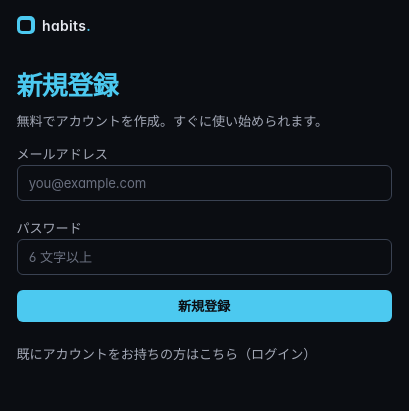
Test: Signup › submit 失敗でエラー文が表示される
This screenshot has width=409, height=411.
In the field labelled "メールアドレス": (204, 183) [16,165,392,201], type "dup@example.com"
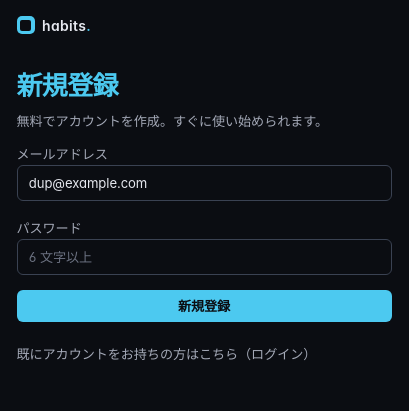
In the password field labelled "パスワード": (204, 257) [16,239,392,275], type "password123"
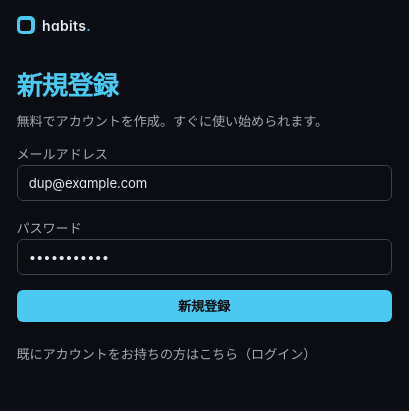
Click the button "新規登録": click(204, 306) [16,290,392,322]
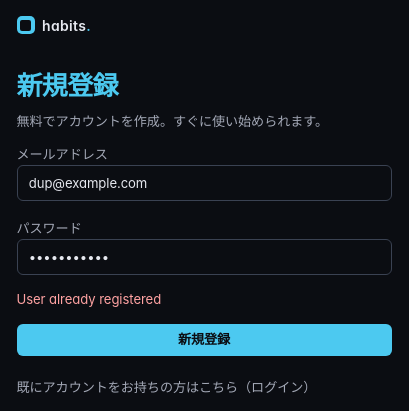
Expected: the message reads "User already registered", [16,291,161,307]
